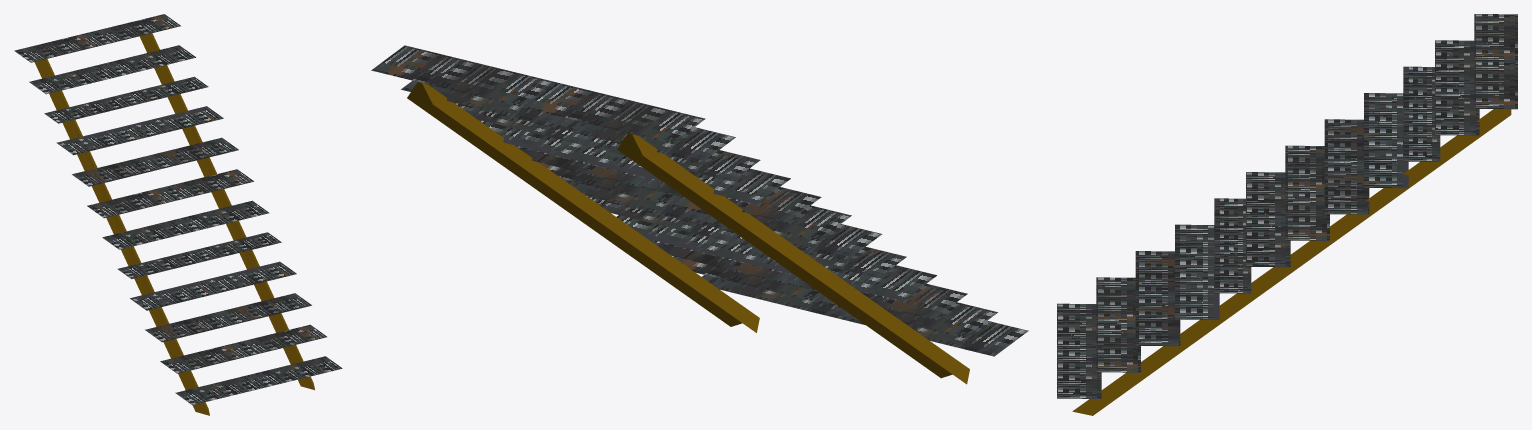
File: TreppeBretter [Blech]_2393.glb
3 views of the same model, side by side, from view 1: azimuth 30°, elevation 25°; view 2: azimuth 150°, elevation 25°; view 3: azimuth 270°, elevation 25° (orthographic). The views are drawn at different scales.
Parts seen in each view (by area): view 1: pPlaneShape16, pPlaneShape17, pPlaneShape18, pCylinderShape2, pCylinderShape1; view 2: pPlaneShape16, pPlaneShape17, pPlaneShape18, pCylinderShape2, pCylinderShape1; view 3: pPlaneShape16, pPlaneShape17, pPlaneShape18, pCylinderShape1.
Boxes of the visible parts, x1,y1,x2,y2 form: pPlaneShape16: (117,232,342,405); pPlaneShape17: (44,76,269,249); pPlaneShape18: (14,14,195,94); pCylinderShape2: (34,59,209,415); pCylinderShape1: (139,33,314,389); pPlaneShape16: (588,196,1028,356); pPlaneShape17: (454,102,882,259); pPlaneShape18: (371,45,735,162); pCylinderShape2: (617,133,969,384); pCylinderShape1: (407,82,759,332); pPlaneShape16: (1057,198,1251,398); pPlaneShape17: (1246,66,1440,267); pPlaneShape18: (1435,14,1517,135); pCylinderShape1: (1072,109,1511,415).
Bounding box in the file's own units: 0.2501 × 0.3891 × 0.5132.
Materials: 5 (3 with a texture image).
